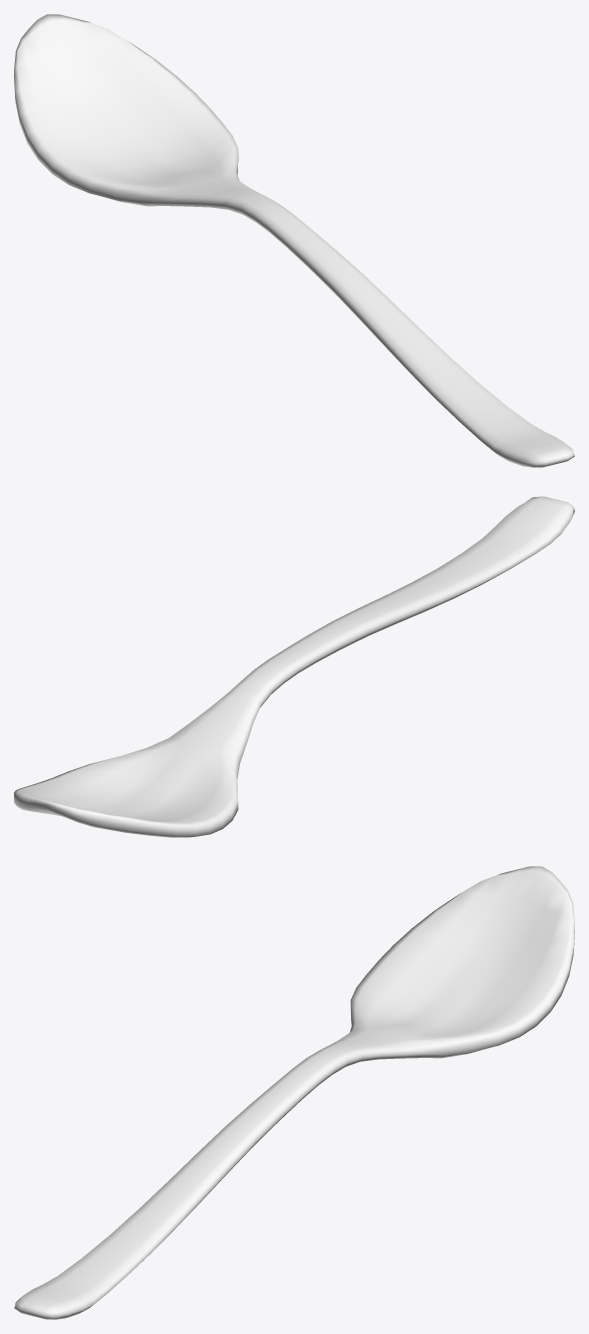
File: spoon.glb
3 renders of one model, top to bottom at view 1: azimuth 30°, elevation 25°; view 2: azimuth 150°, elevation 25°; view 3: azimuth 330°, elevation 25°, orthographic.
Parts seen in each view (by area): view 1: Fork001; view 2: Fork001; view 3: Fork001.
Part boxes in pixels (left/top/right/bottom): Fork001: left=14, top=14, right=574, bottom=467; Fork001: left=14, top=496, right=574, bottom=837; Fork001: left=14, top=866, right=574, bottom=1319.
Size of the model in its own units: 21.51 by 10.47 by 110.
Materials: 1 (1 with a texture image).
